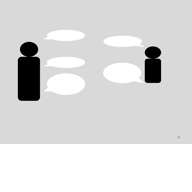left_speech: (42, 71, 87, 96), (42, 26, 88, 44), (42, 54, 88, 69)
right_speech: (101, 60, 144, 85), (102, 32, 144, 49)
